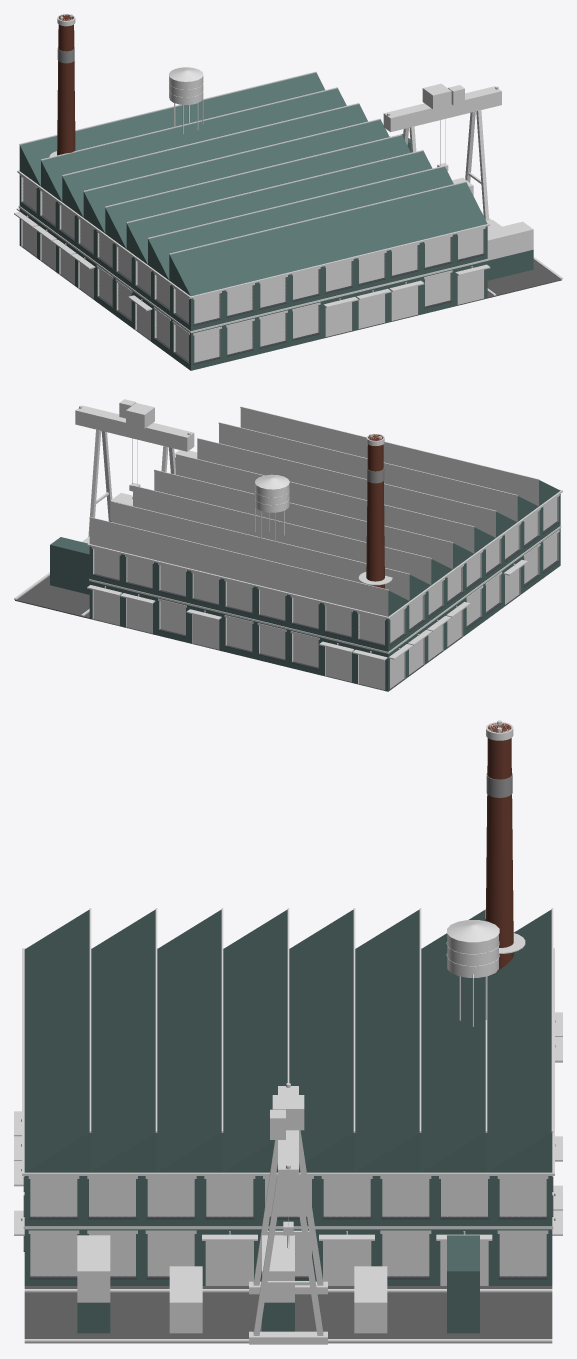
File: LM_FR_SawtoothWorks.fbx
The picture shows the model from 3 angles, top to bottom: view 1: azimuth 30°, elevation 25°; view 2: azimuth 150°, elevation 25°; view 3: azimuth 270°, elevation 25°; orthographic projection. The views are drawn at different scales.
Visible parts, largest first — view 1: LM_FR_SawtoothWorks_LOD0; view 2: LM_FR_SawtoothWorks_LOD0; view 3: LM_FR_SawtoothWorks_LOD0.
Part boxes in pixels (x1=…): LM_FR_SawtoothWorks_LOD0: x1=14, y1=14, x2=562, y2=370; LM_FR_SawtoothWorks_LOD0: x1=14, y1=399, x2=562, y2=691; LM_FR_SawtoothWorks_LOD0: x1=14, y1=720, x2=562, y2=1344.
Size of what is drawn, in the model's own units: 53.8 by 30.25 by 41.6.
